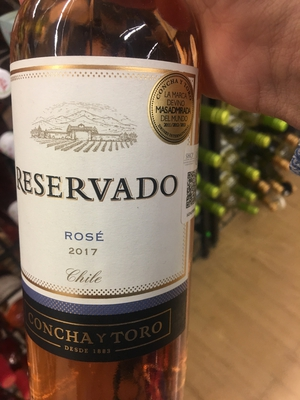reservado rose: (10, 3, 198, 395)
